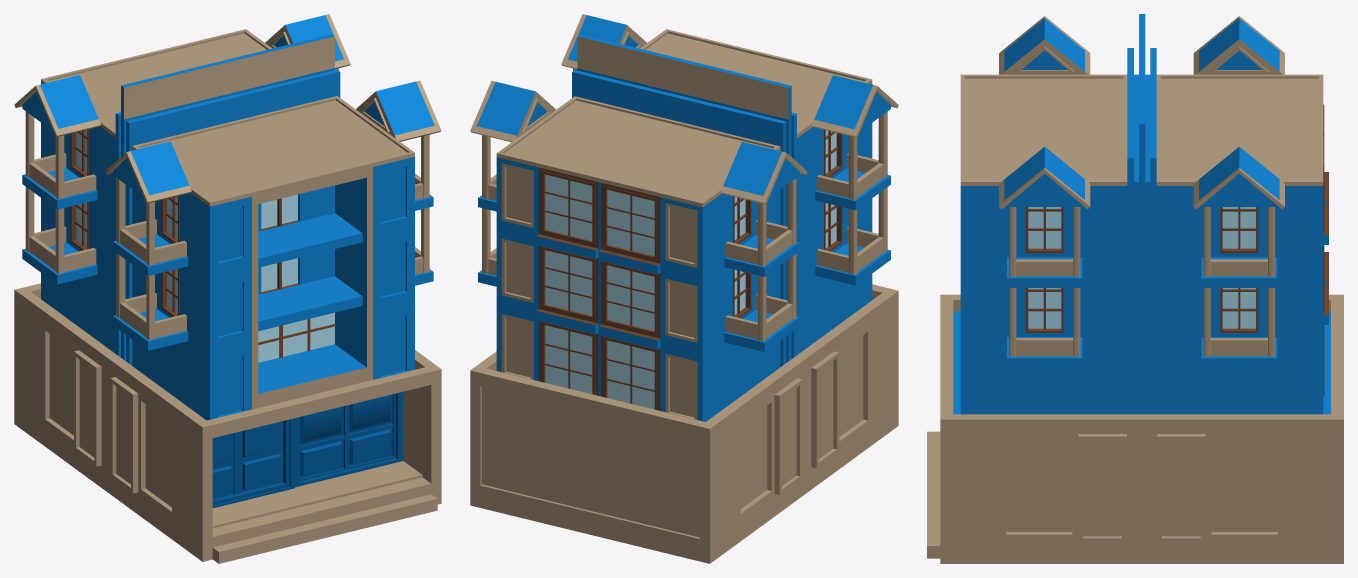
File: commercial-building-hotel.fbx
3 renders of one model, left to right at view 1: azimuth 30°, elevation 25°; view 2: azimuth 150°, elevation 25°; view 3: azimuth 270°, elevation 25°, orthographic. The views are drawn at different scales.
Parts seen in each view (by area): view 1: commercial-building-hotel; view 2: commercial-building-hotel; view 3: commercial-building-hotel.
Boxes of the visible parts, x1,y1,x2,y2 form: commercial-building-hotel: (14, 14, 441, 563); commercial-building-hotel: (470, 14, 898, 563); commercial-building-hotel: (927, 14, 1343, 563).
Size of the model in its own units: 1144 by 1500 by 1311.
Materials: 1 (1 with a texture image).
